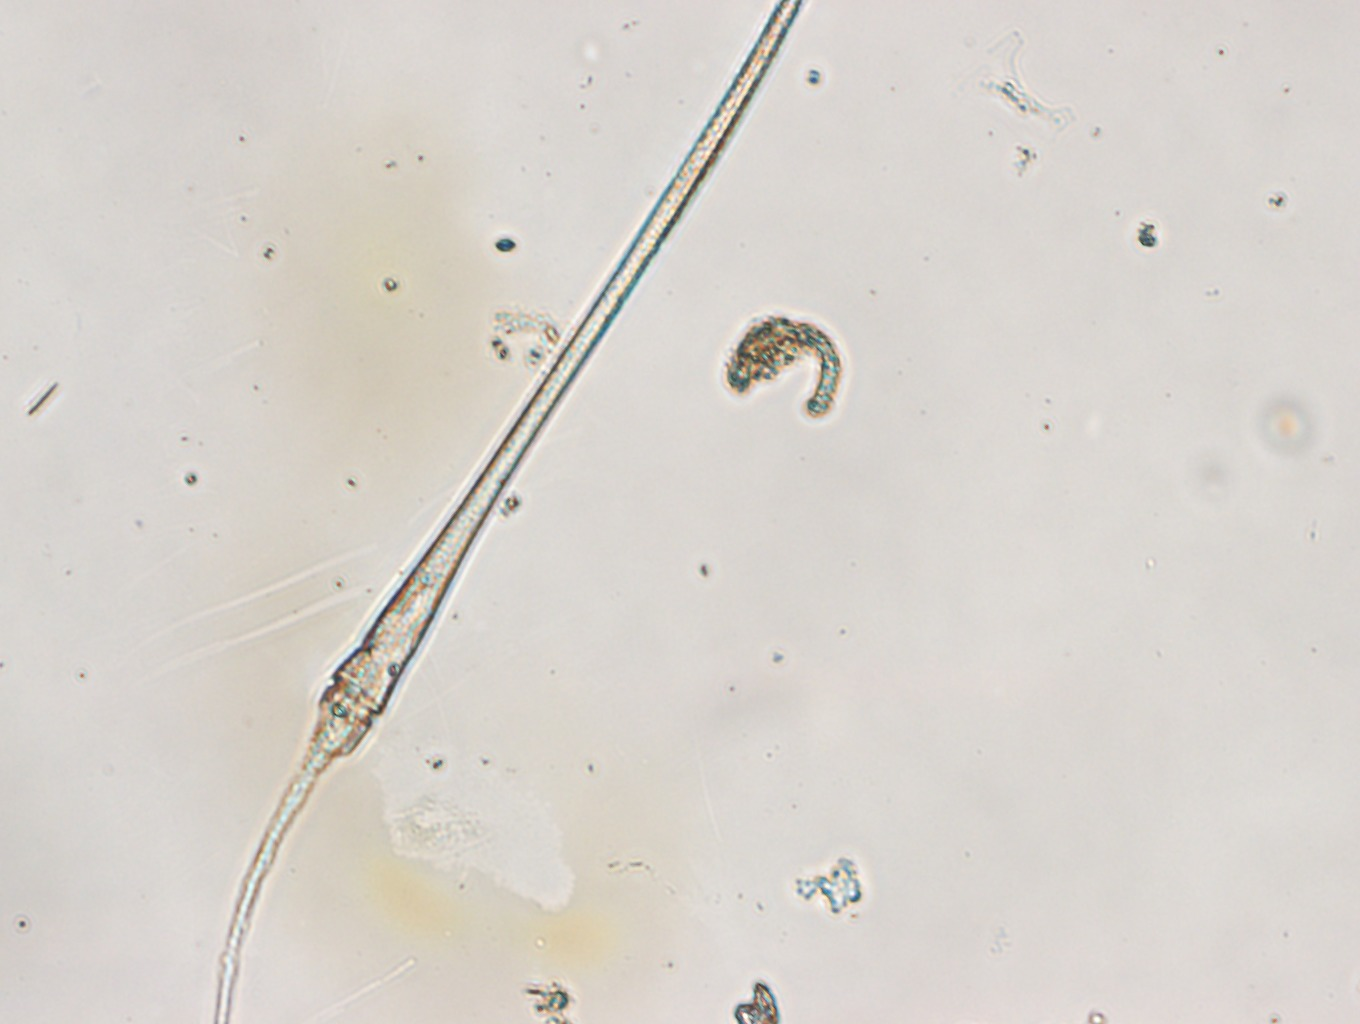ceratium fusus: (211, 1, 805, 1024)
eucampia: (951, 28, 1078, 182)
